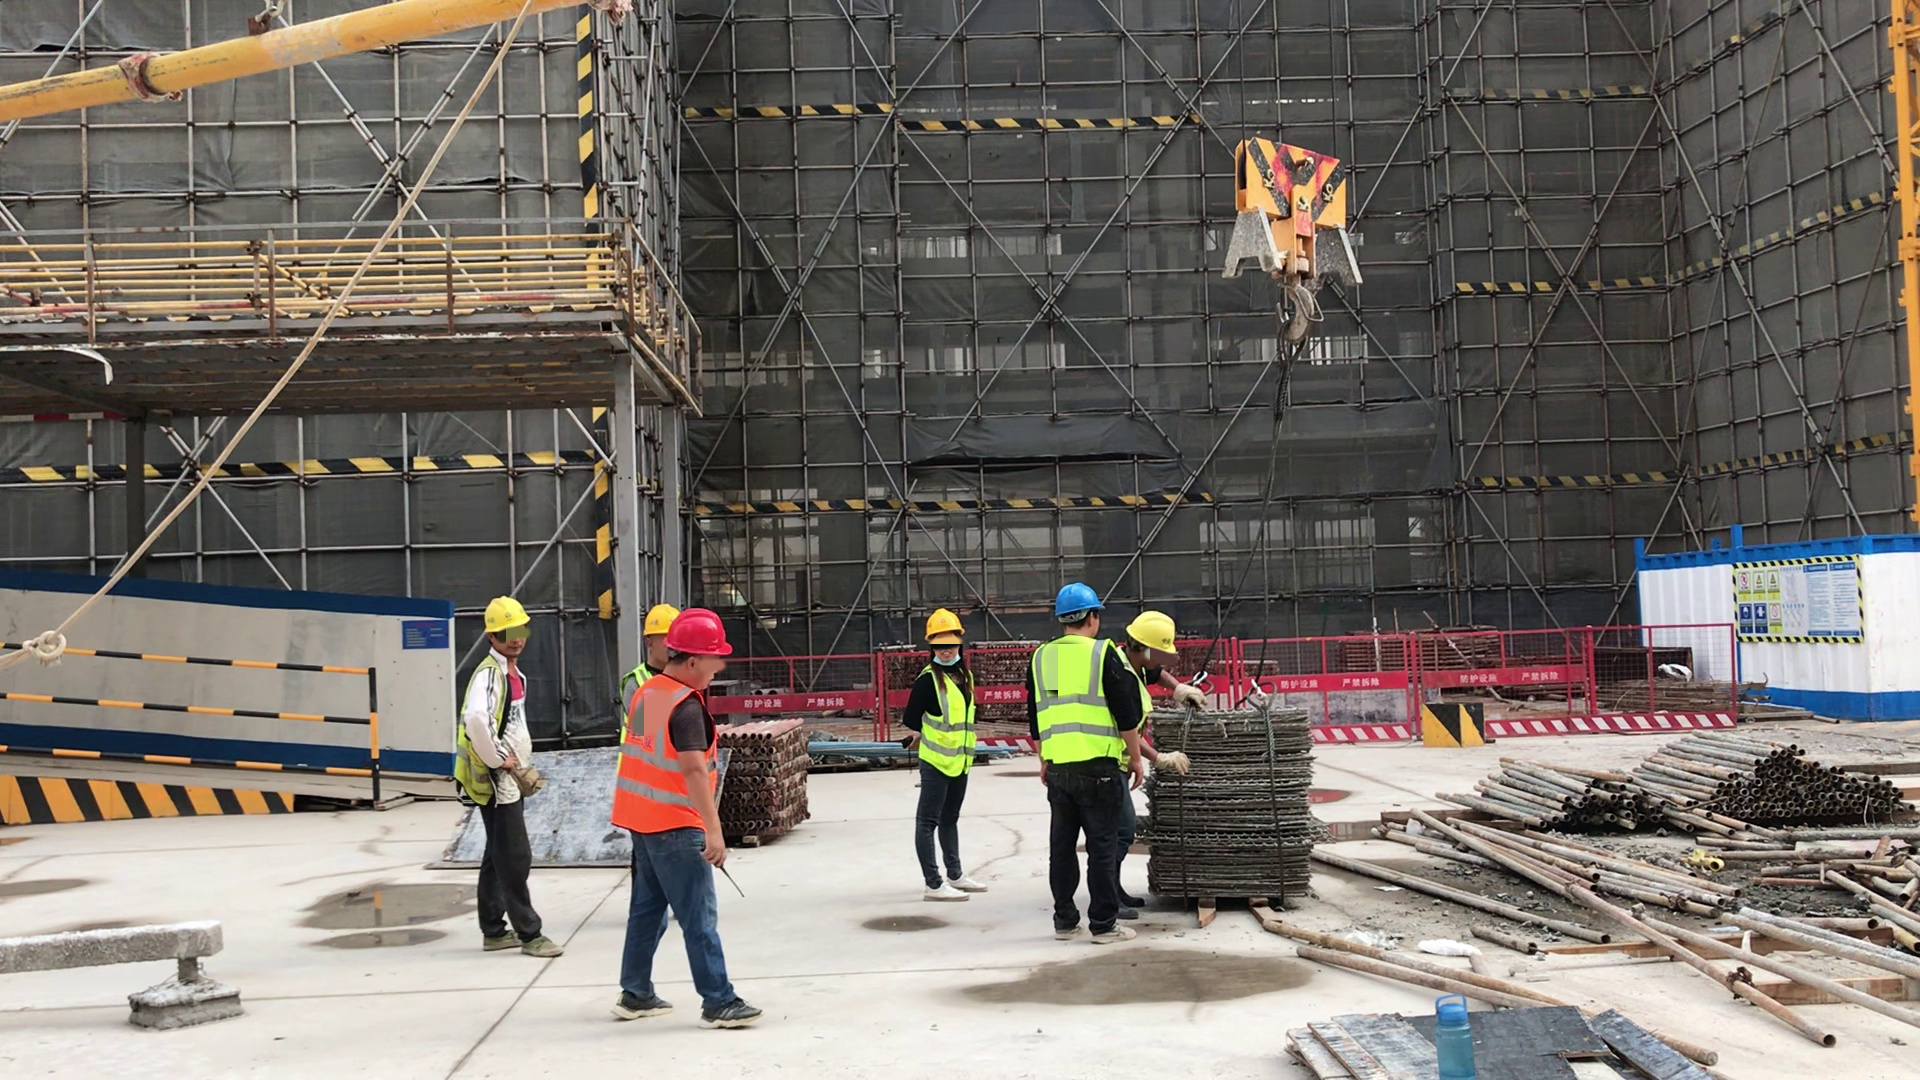fence: (71, 637, 388, 811), (1488, 613, 1734, 730), (1307, 626, 1421, 748), (808, 648, 889, 737)
helmet: (663, 608, 735, 660), (1121, 612, 1180, 655), (1050, 582, 1106, 622), (482, 598, 531, 631), (924, 610, 966, 641), (638, 607, 672, 636)
hook: (1230, 132, 1366, 345)
person: (608, 605, 767, 1028), (1029, 579, 1142, 947), (456, 596, 567, 962), (908, 607, 992, 905), (1131, 608, 1210, 711), (620, 604, 672, 689)
scaffold: (1633, 722, 1908, 832), (1440, 756, 1670, 837), (725, 712, 810, 839)
slogan: (1739, 561, 1867, 645)
vest: (611, 672, 719, 836), (1030, 635, 1124, 767), (453, 654, 511, 811), (913, 663, 977, 777)
